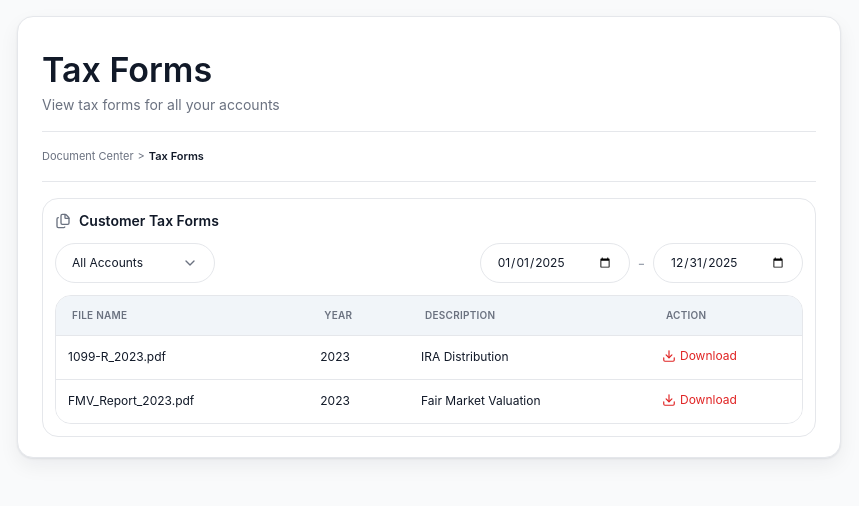
DocumentCenterPage › filters tax forms by account and date range
Click the dropdown named "select account". click: (135, 262)
box: [55,242,215,282]
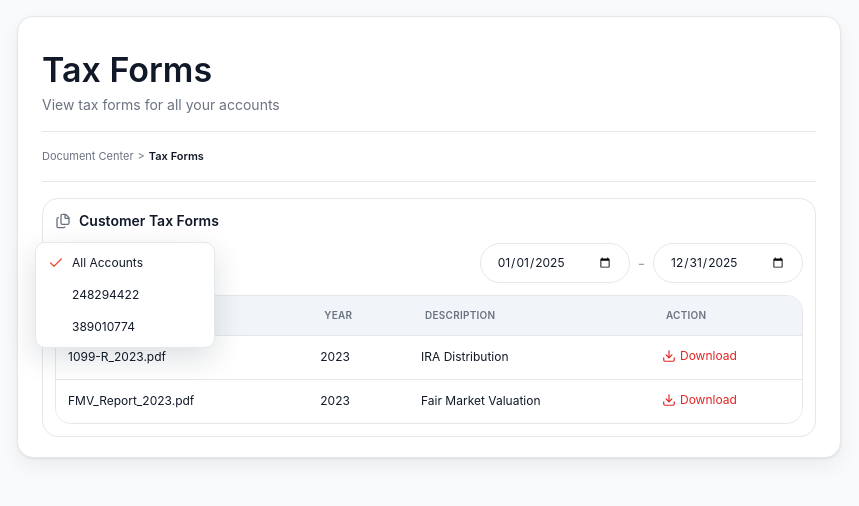
Click the option "389010774". click: (103, 326)
box: [72,318,135,334]
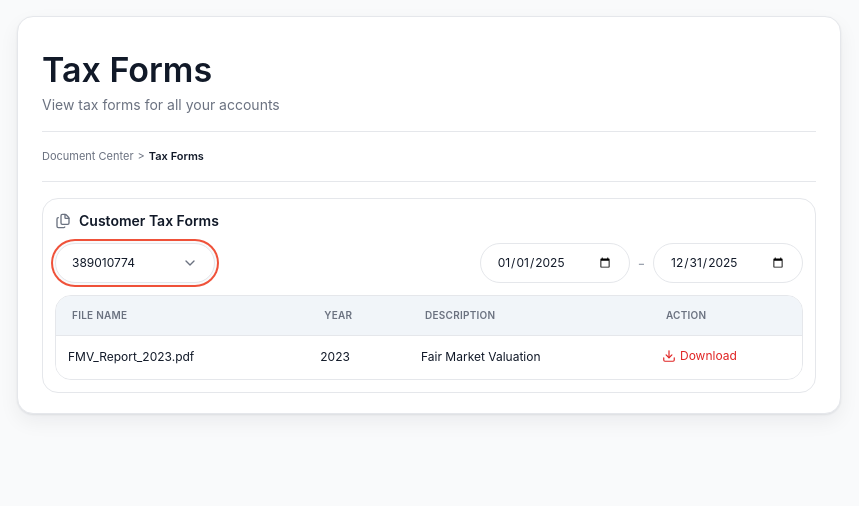
Expected: the text "FMV_Report_2023.pdf" is shown, [56,335,308,378]
Now the text "1099-R_2023.pdf" is gone
Type "2025-01-08" into the date field named "Tax forms from date". click: (555, 262)
box: [497,254,613,272]
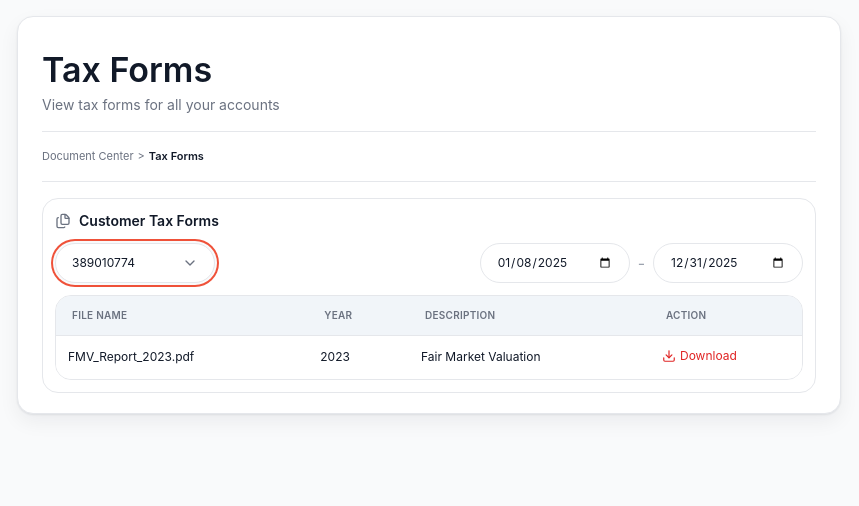
Type "2025-01-08" into the date field named "Tax forms to date". click: (728, 262)
box: [670,254,786,272]
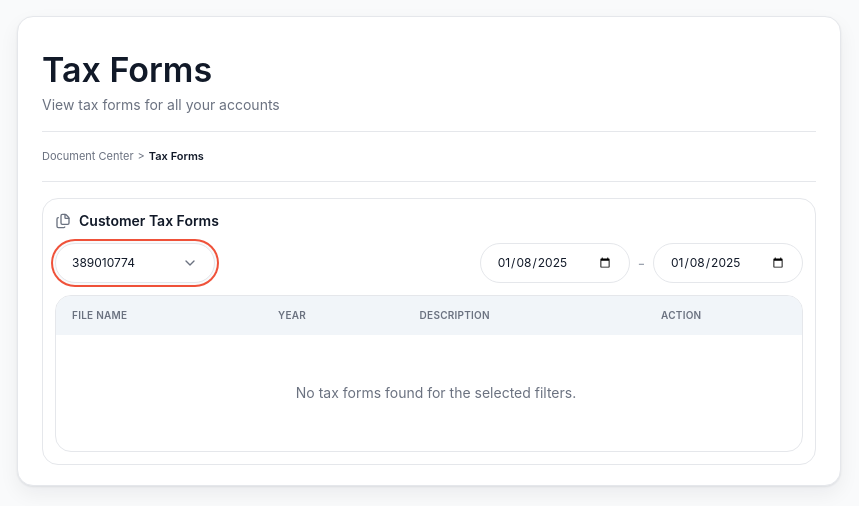
Now the text "No tax forms found for the selected filters." is shown, box [296,384,576,400]
